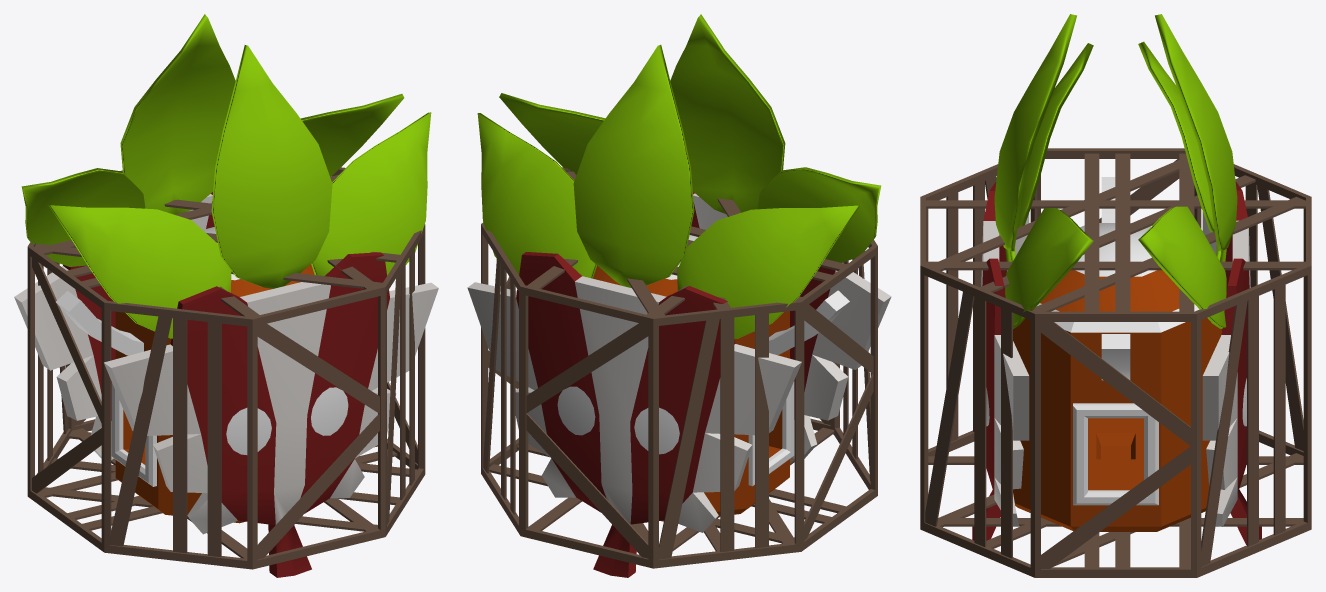
The model's file is TotemPart Team 2.fbx.
The picture shows the model from 3 angles, left to right: view 1: azimuth 30°, elevation 25°; view 2: azimuth 150°, elevation 25°; view 3: azimuth 270°, elevation 25°; orthographic projection. The views are drawn at different scales.
Visible parts, largest first — view 1: VictoryLeafs, TotemScaffolding3, Mask_1, TotemPart_3; view 2: VictoryLeafs, TotemScaffolding3, Mask_1, TotemPart_3; view 3: TotemScaffolding3, TotemPart_3, VictoryLeafs, Mask_1.
Part boxes in pixels (x1=…): VictoryLeafs: x1=21, y1=14, x2=431, y2=338; TotemScaffolding3: x1=27, y1=167, x2=425, y2=569; Mask_1: x1=14, y1=192, x2=438, y2=577; TotemPart_3: x1=56, y1=227, x2=314, y2=523; VictoryLeafs: x1=477, y1=14, x2=881, y2=338; TotemScaffolding3: x1=481, y1=167, x2=877, y2=568; Mask_1: x1=467, y1=192, x2=891, y2=577; TotemPart_3: x1=593, y1=235, x2=849, y2=521; TotemScaffolding3: x1=920, y1=148, x2=1311, y2=577; TotemPart_3: x1=1007, y1=177, x2=1222, y2=531; VictoryLeafs: x1=994, y1=14, x2=1237, y2=328; Mask_1: x1=972, y1=182, x2=1261, y2=544.
Bounding box in the file's own units: 3.96 × 4.9 × 3.32.
